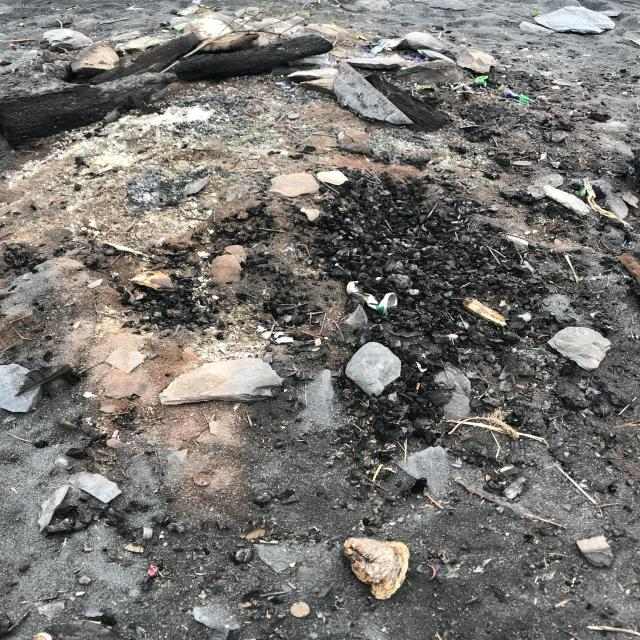litter: (372, 180, 424, 219), (119, 75, 142, 93), (98, 114, 114, 126)
